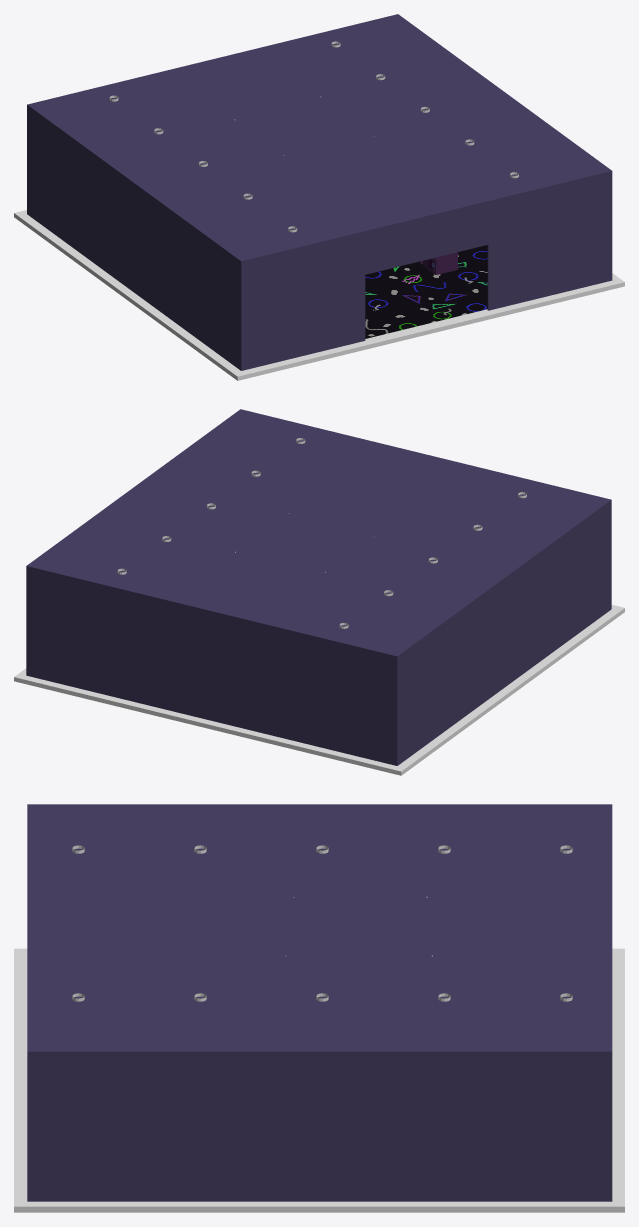
File: Arcaderoom.fbx
The picture shows the model from 3 angles, top to bottom: view 1: azimuth 30°, elevation 25°; view 2: azimuth 150°, elevation 25°; view 3: azimuth 270°, elevation 25°; orthographic projection. The views are drawn at different scales.
Parts seen in each view (by area): view 1: Cube.001, Cube.007, GameMachine.011; view 2: Cube.001, Cube.007; view 3: Cube.001, Cube.007.
Boxes of the visible parts, left/top/right/bottom form: Cube.001: left=27, top=14, right=612, bottom=370; Cube.007: left=14, top=210, right=624, bottom=380; GameMachine.011: left=423, top=252, right=457, bottom=274; Cube.001: left=26, top=409, right=611, bottom=765; Cube.007: left=14, top=605, right=624, bottom=775; Cube.001: left=27, top=804, right=612, bottom=1201; Cube.007: left=14, top=948, right=624, bottom=1212.
Bounding box in the file's own units: 6399 × 1941 × 6399.
13 materials, 2 textured.
